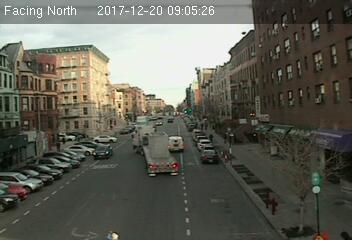car: (93, 145, 113, 159), (201, 149, 219, 163)
truck: (131, 124, 177, 176), (167, 135, 184, 151)
